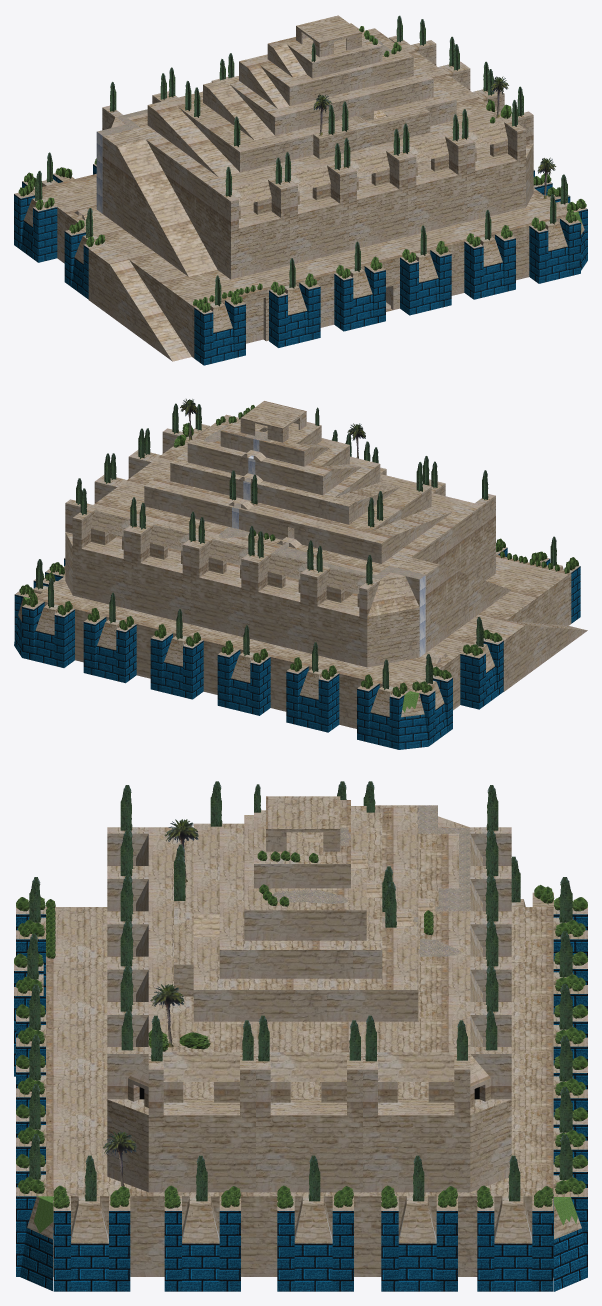
File: HangingGardensOfBabylon.fbx
3 renders of one model, top to bottom at view 1: azimuth 30°, elevation 25°; view 2: azimuth 150°, elevation 25°; view 3: azimuth 270°, elevation 25°, orthographic. The views are drawn at different scales.
Parts seen in each view (by area): view 1: G-Object, C-gghttr, C-eeffa, C-errerf, _C-rr4433 (Loose Mesh), C-er355, _C-rr4433 (Loose Mesh).002, _C-rr4433 (Loose Mesh).001, _C-rr4433 (Loose Mesh).004, _C-rr4433 (Loose Mesh).003, C-4rt443, _C-northsnook (Loose Mesh).001 (+10 smaller); view 2: G-Object, C-gghttr, C-eeffa, C-errerf, _C-rr4433 (Loose Mesh).008, _C-rr4433 (Loose Mesh).009, _C-rr4433 (Loose Mesh).010, _C-rr4433 (Loose Mesh).012, _C-rr4433 (Loose Mesh).011, C-er355, C-e3321, _C-northsnook (Loose Mesh).012 (+14 smaller); view 3: G-Object, C-gghttr, C-eeffa, _C-rr4433 (Loose Mesh).005, _C-rr4433 (Loose Mesh).007, _C-rr4433 (Loose Mesh).006, C-errerf, C-er355, _C-northsnook (Loose Mesh).006, _C-northsnook (Loose Mesh).007, _C-northsnook (Loose Mesh).008, _C-northsnook (Loose Mesh).009 (+28 smaller).
Part boxes in pixels (x1,y1,x2,y2): G-Object: (33, 174, 567, 361); C-gghttr: (96, 45, 510, 276); C-eeffa: (147, 83, 456, 177); C-errerf: (203, 64, 433, 140); _C-rr4433 (Loose Mesh): (217, 178, 289, 279); C-er355: (239, 28, 413, 108); _C-rr4433 (Loose Mesh).002: (341, 149, 407, 250); _C-rr4433 (Loose Mesh).001: (282, 163, 348, 263); _C-rr4433 (Loose Mesh).004: (459, 120, 525, 221); _C-rr4433 (Loose Mesh).003: (400, 134, 466, 236); C-4rt443: (267, 23, 382, 78); _C-northsnook (Loose Mesh).001: (269, 281, 320, 347); G-Object: (37, 554, 587, 728); C-gghttr: (88, 434, 510, 656); C-eeffa: (144, 467, 452, 563); C-errerf: (170, 450, 399, 524); _C-rr4433 (Loose Mesh).008: (308, 566, 380, 667); _C-rr4433 (Loose Mesh).009: (249, 551, 316, 652); _C-rr4433 (Loose Mesh).010: (190, 537, 257, 638); _C-rr4433 (Loose Mesh).012: (72, 508, 139, 609); _C-rr4433 (Loose Mesh).011: (131, 523, 198, 624); C-er355: (187, 414, 361, 495); C-e3321: (367, 572, 419, 667); _C-northsnook (Loose Mesh).012: (83, 615, 136, 683); G-Object: (46, 907, 553, 1276); C-gghttr: (148, 805, 470, 1097); C-eeffa: (193, 807, 418, 1021); _C-rr4433 (Loose Mesh).005: (148, 1052, 255, 1192); _C-rr4433 (Loose Mesh).007: (363, 1052, 470, 1192); _C-rr4433 (Loose Mesh).006: (256, 1052, 362, 1192); C-errerf: (219, 812, 382, 978); C-er355: (244, 806, 366, 940); _C-northsnook (Loose Mesh).006: (53, 1196, 130, 1291); _C-northsnook (Loose Mesh).007: (164, 1196, 240, 1291); _C-northsnook (Loose Mesh).008: (277, 1196, 353, 1291); _C-northsnook (Loose Mesh).009: (381, 1196, 457, 1291).
Bounding box in the file's own units: 4790 × 2427 × 3642.
11 materials, 8 textured.
